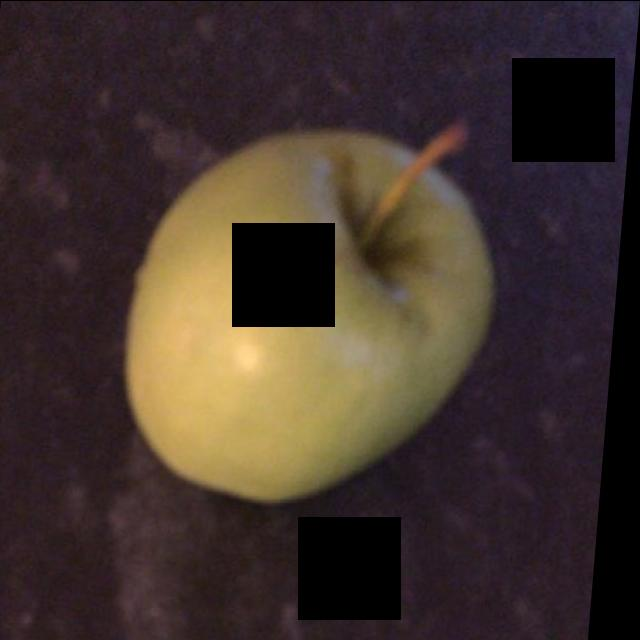apple: (137, 128, 491, 499)
